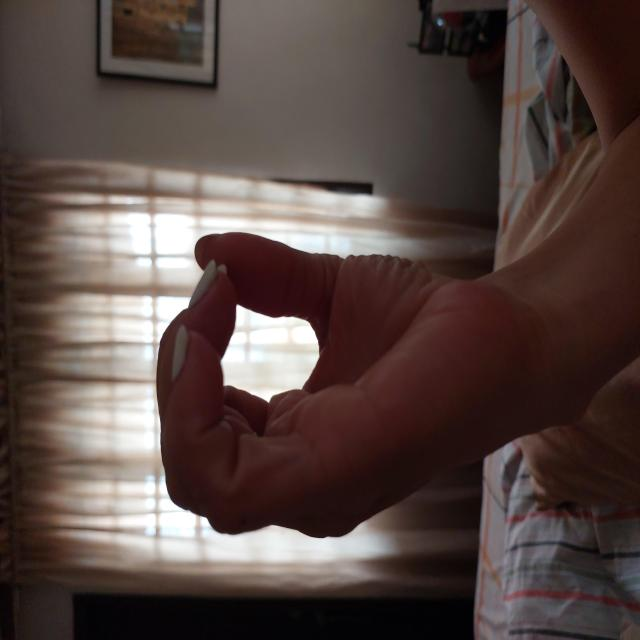O: (92, 149, 412, 525)
